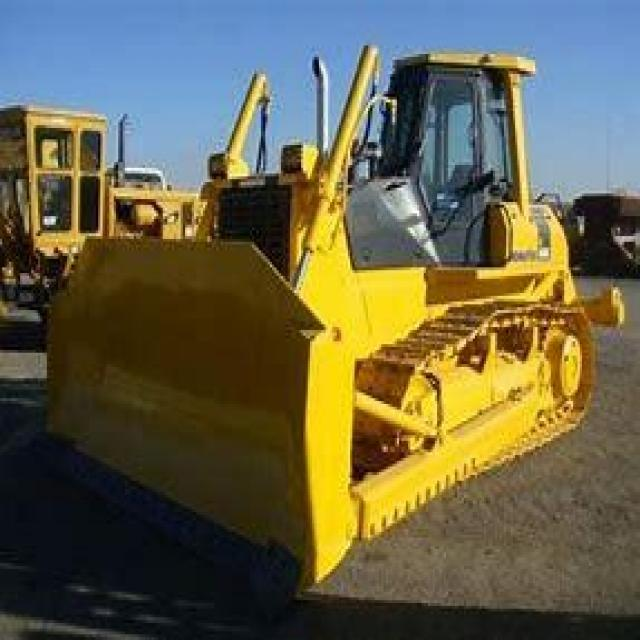Bulldozer: (25, 15, 622, 598)
